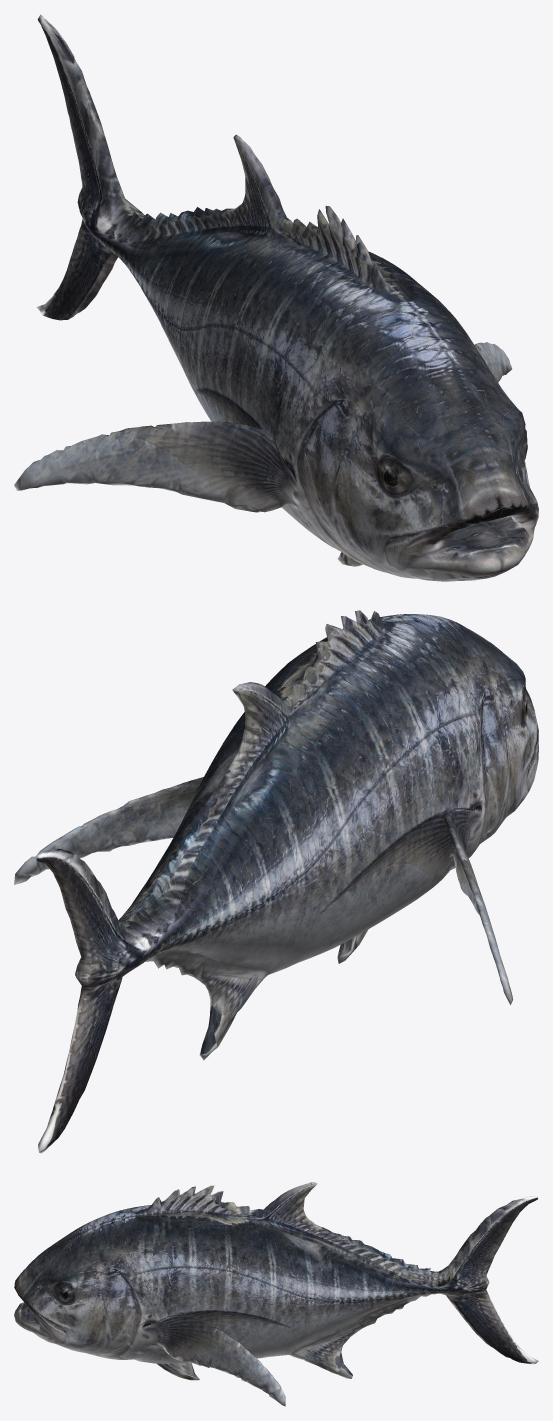
File: fish_gt.glb
The picture shows the model from 3 angles, top to bottom: view 1: azimuth 30°, elevation 25°; view 2: azimuth 150°, elevation 25°; view 3: azimuth 270°, elevation 25°; orthographic projection. The views are drawn at different scales.
Parts seen in each view (by area): view 1: geometry_0; view 2: geometry_0; view 3: geometry_0.
Boxes of the visible parts, x1,y1,x2,y2 form: geometry_0: [14, 14, 538, 581]; geometry_0: [14, 610, 538, 1153]; geometry_0: [14, 1182, 538, 1406].
Bounding box in the file's own units: 1.21 × 0.8174 × 1.96.
Materials: 1 (1 with a texture image).
